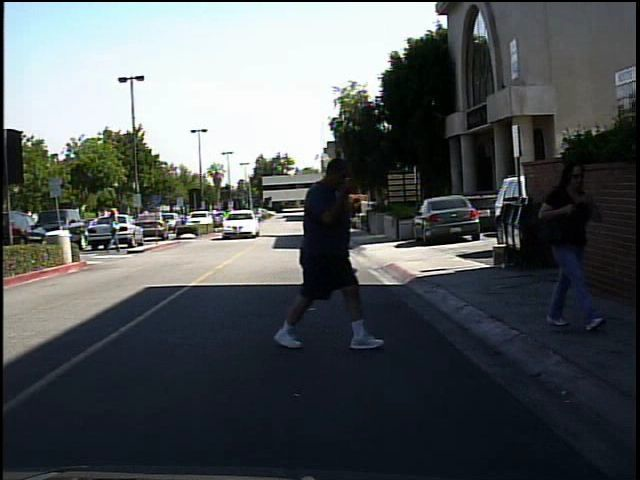person: (277, 147, 383, 353), (526, 147, 606, 334), (103, 205, 126, 258)
